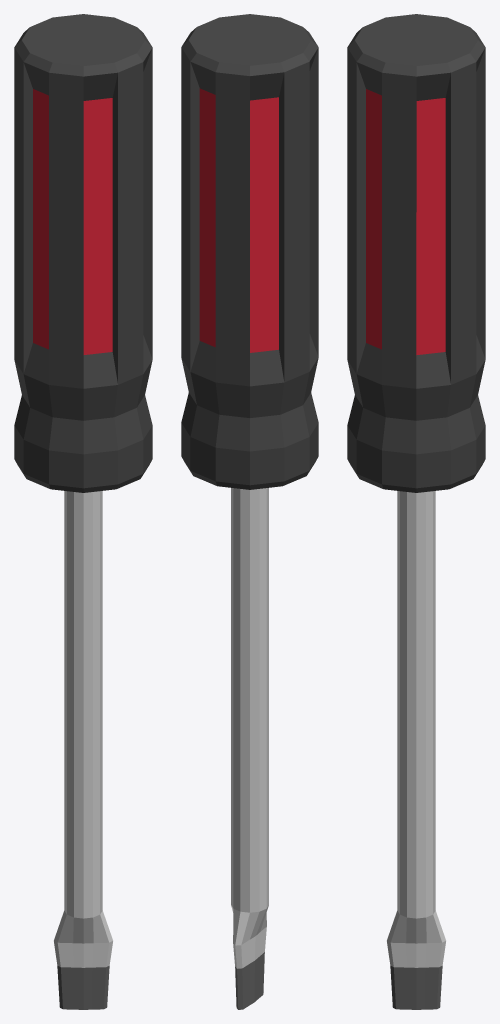
File: screwdriver.fbx
3 renders of one model, left to right at view 1: azimuth 90°, elevation 25°; view 2: azimuth 150°, elevation 25°; view 3: azimuth 270°, elevation 25°, orthographic.
Parts seen in each view (by area): view 1: Screwdriver; view 2: Screwdriver; view 3: Screwdriver.
Boxes of the visible parts, x1,y1,x2,y2 form: Screwdriver: (14,14,152,1009); Screwdriver: (181,14,318,1009); Screwdriver: (347,14,485,1009).
Size of the model in its own units: 71.91 by 555 by 71.91.
